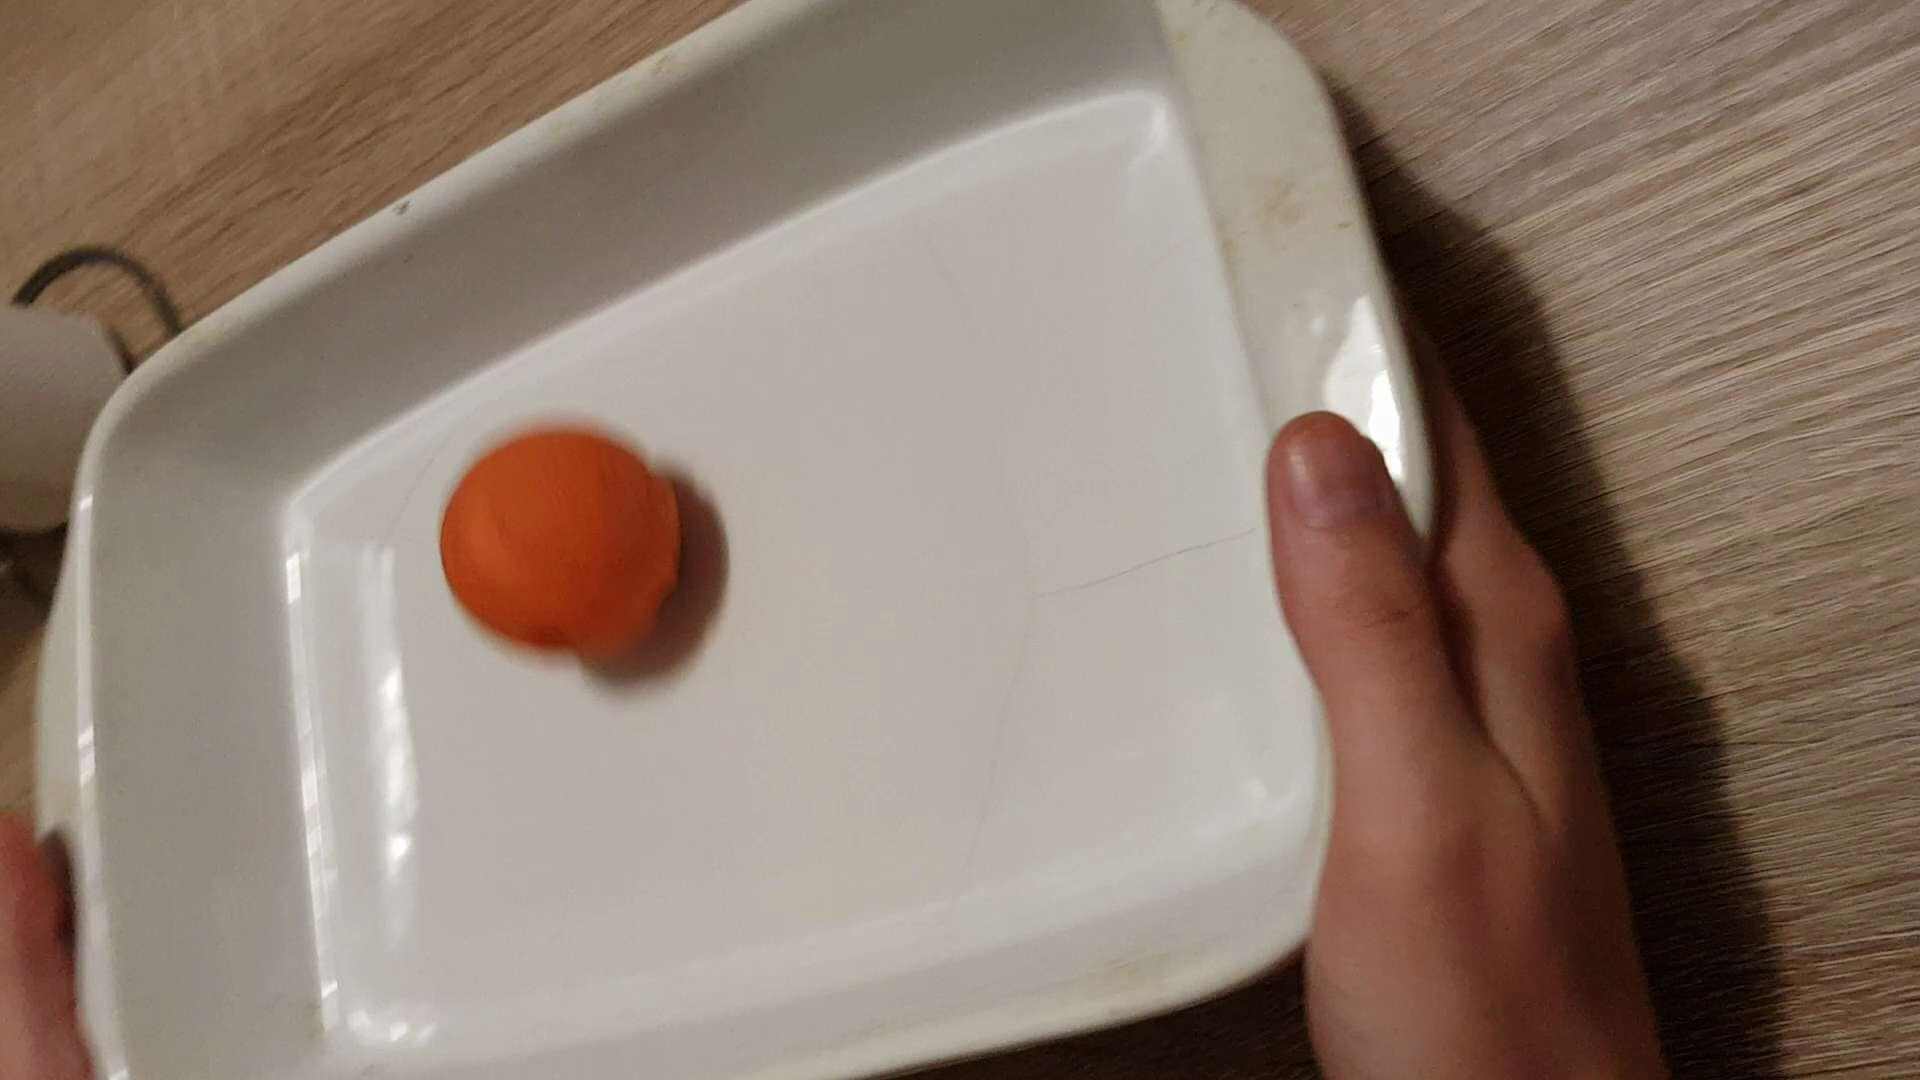sphere: (433, 415, 687, 661)
